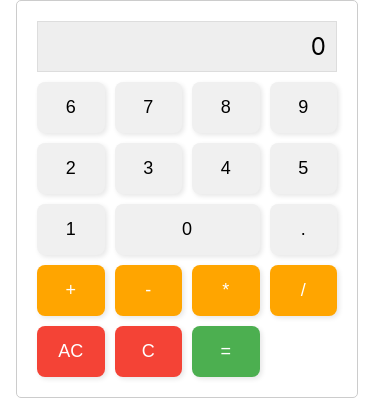
Scenario: Calculator › should display numbers when clicked
This screenshot has width=375, height=415.
Click the button "2": (71, 168) [37,143,104,194]
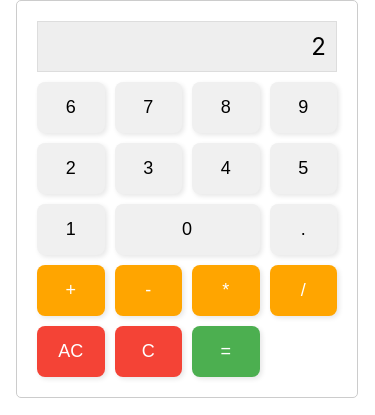
Click the button "5": (303, 168) [270,143,337,194]
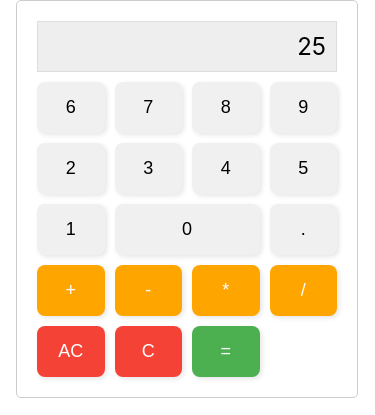
Result: the text "25" is shown at [37,21,337,72]
